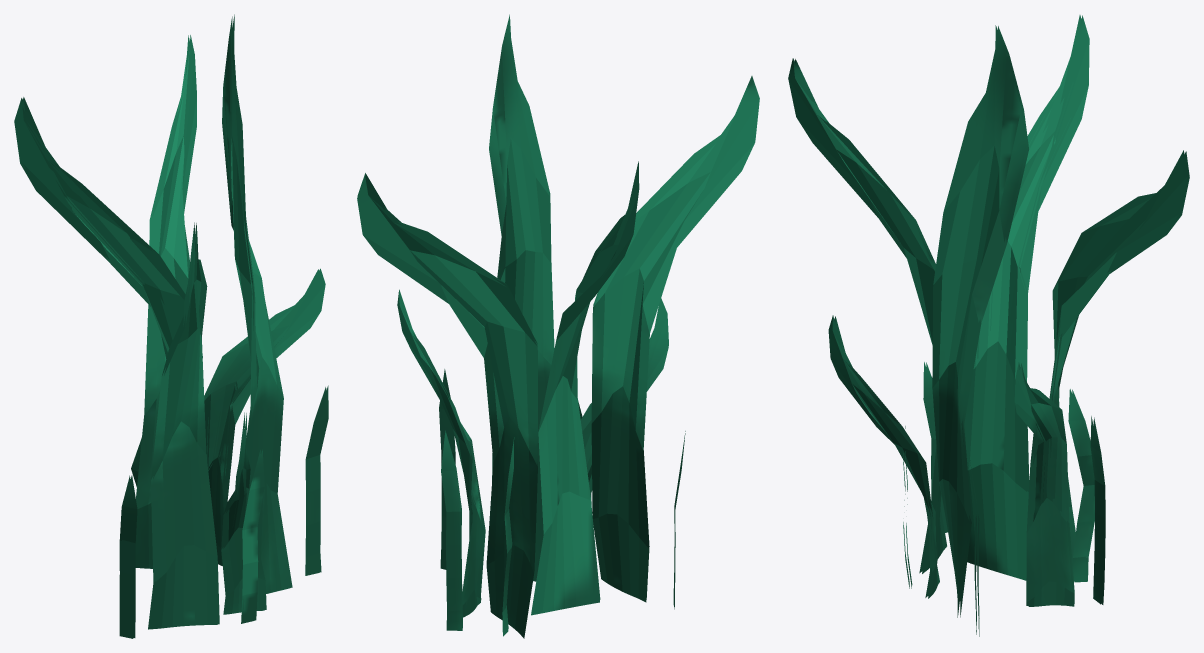
File: Grass.fbx
The picture shows the model from 3 angles, left to right: view 1: azimuth 30°, elevation 25°; view 2: azimuth 150°, elevation 25°; view 3: azimuth 270°, elevation 25°; orthographic projection.
Parts seen in each view (by area): view 1: single; view 2: single; view 3: single.
Part boxes in pixels (box(x1,y1,x2,y2)): single: box(14, 14, 328, 638); single: box(357, 14, 759, 638); single: box(788, 15, 1189, 636).
Size of the model in its own units: 1.18 by 2.35 by 1.48.
